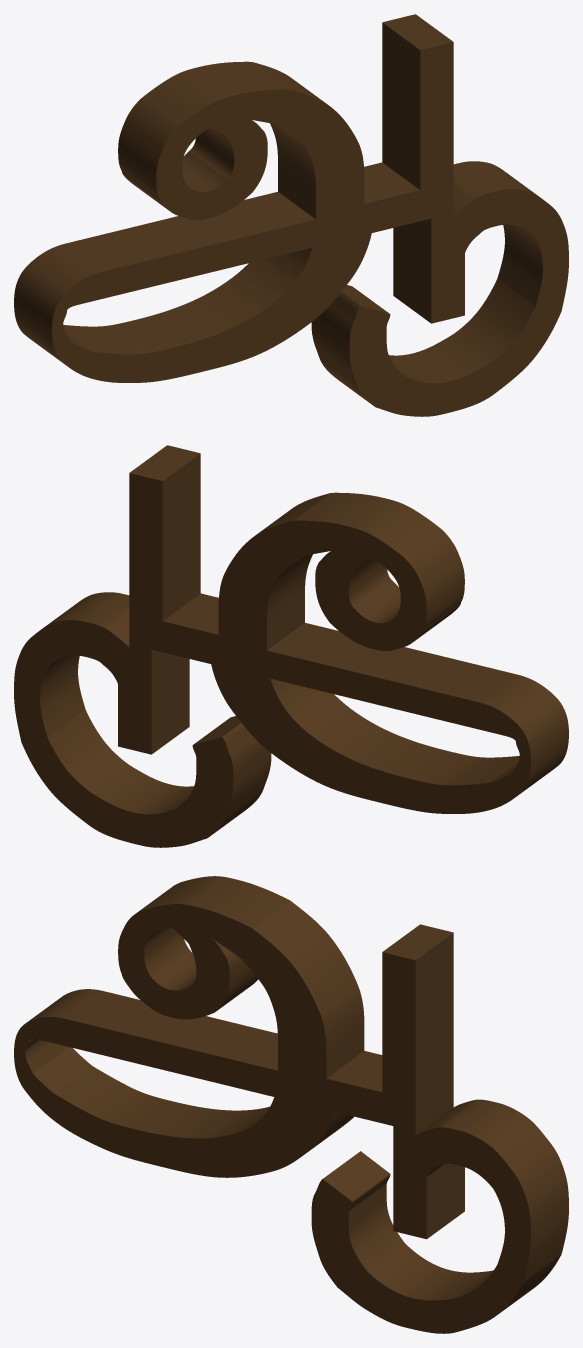
3 views of the same model, one above another, from view 1: azimuth 30°, elevation 25°; view 2: azimuth 150°, elevation 25°; view 3: azimuth 330°, elevation 25° (orthographic).
Parts seen in each view (by area): view 1: Curve.001; view 2: Curve.001; view 3: Curve.001.
Part boxes in pixels (x1,y1,x2,y2): Curve.001: (14, 14, 568, 416); Curve.001: (14, 445, 568, 847); Curve.001: (14, 876, 568, 1333).
Bounding box in the file's own units: 156 × 106 × 19.85.
